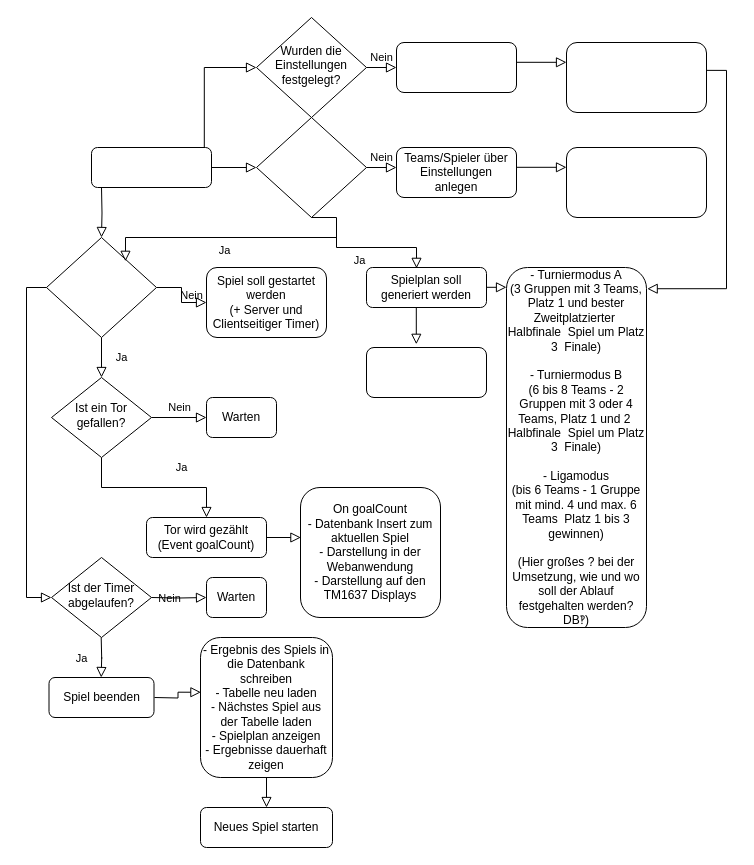
This 754x865 diagram has some shape labels left out. The shapes that lost their labels are listed below. From the top down, each one's centre as x and y in pixels, then its label:
[456,67]: Grundeinstellungen festlegen
[636,77]: - Datenbank Insert anhand der Formularfelder (Name, Dauer, ...)
[151,167]: Webanwendung läuft (npm start)
[311,167]: Wurden die/(alle) Teams angelegt?
[636,182]: - Datenbank Insert anhand der Formularfelder (Name, Farbe, ...)
[101,287]: Läuft das Spiel?
[426,372]: Generierten Spielplan in Tabelle (gameplan) eintragen.
